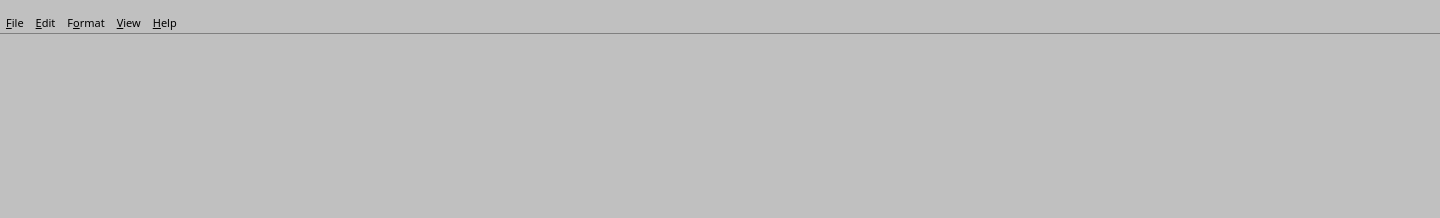
Test: MenuBar — Edit Find/Replace › Edit menu shows Find... item
The width and height of the screenshot is (1440, 218).
Click the menu item "Edit" at (45, 22), box x1=36 y1=15 x2=55 y2=30
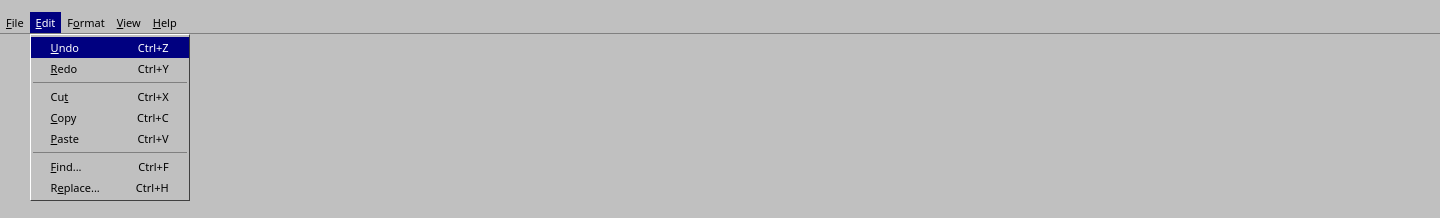
Now the menu item "Find... Ctrl+F" is shown, box x1=51 y1=159 x2=169 y2=174
